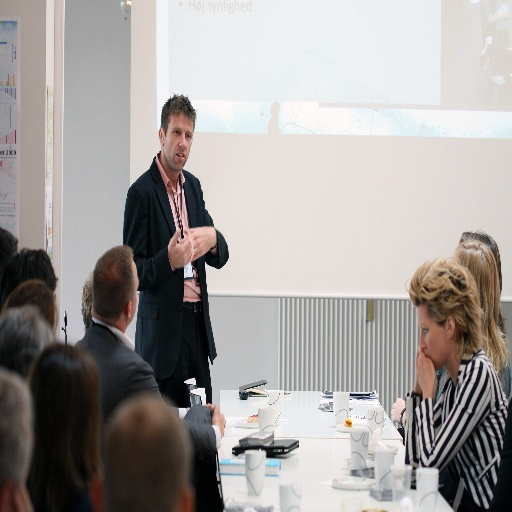hand: (168, 226, 193, 268), (416, 345, 438, 392), (189, 225, 213, 263), (206, 404, 225, 433), (389, 395, 406, 421), (212, 405, 224, 438)
